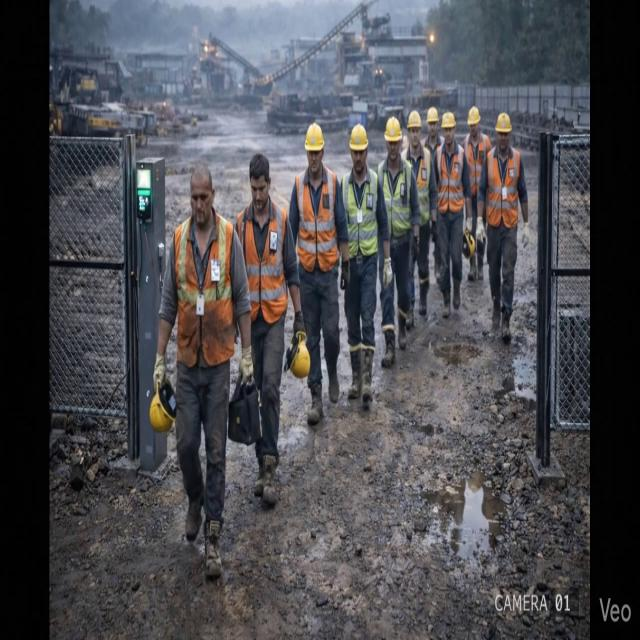Vest: (174, 214, 234, 367), (237, 200, 287, 324), (296, 165, 338, 271), (342, 168, 377, 259), (486, 148, 520, 228), (378, 160, 411, 238), (437, 144, 463, 214), (463, 134, 491, 195), (415, 147, 431, 225)
Worker: (154, 166, 252, 577), (236, 153, 305, 505), (289, 123, 349, 425), (341, 124, 392, 409), (478, 113, 529, 343), (377, 117, 419, 367), (401, 111, 437, 328), (434, 112, 471, 318), (463, 106, 491, 240), (431, 219, 440, 284)
helmet: (149, 380, 176, 432), (284, 332, 310, 378), (304, 123, 324, 151), (350, 124, 367, 151), (385, 117, 401, 141), (462, 229, 474, 258), (496, 112, 511, 133), (440, 112, 456, 129), (407, 111, 421, 128), (468, 106, 480, 125), (427, 107, 438, 122)
